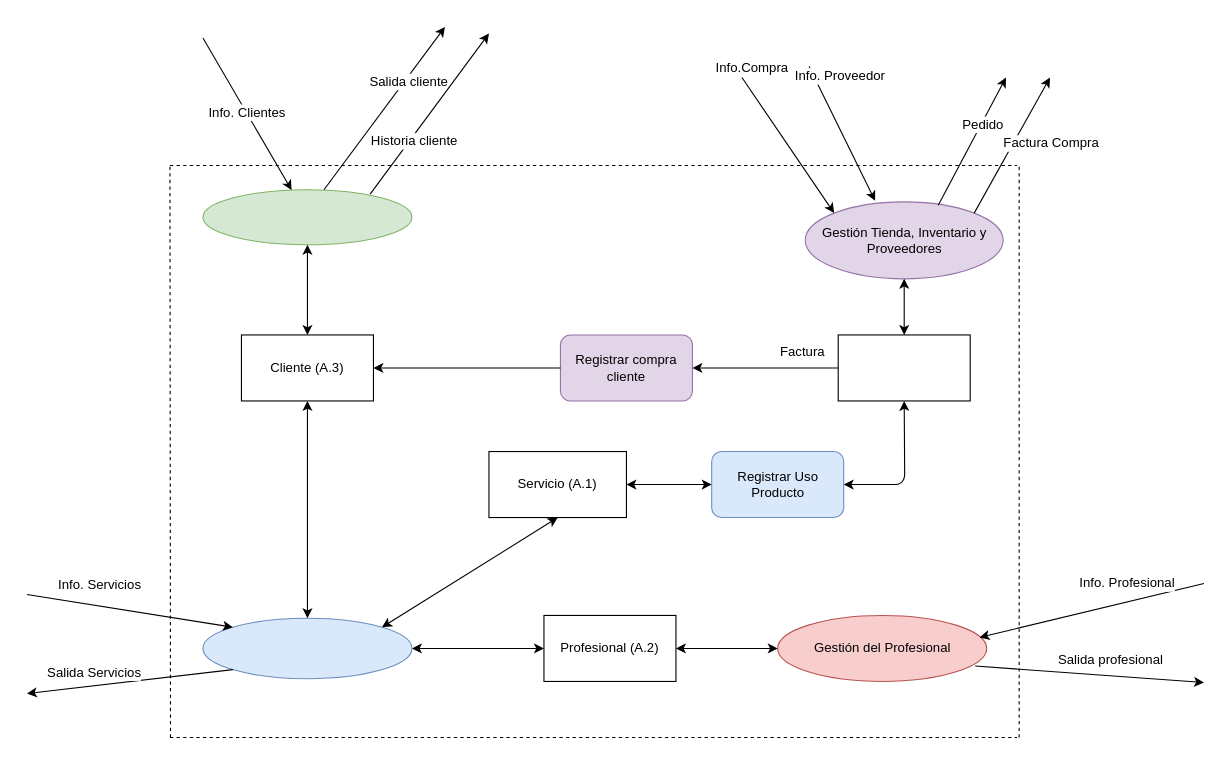
The diagram is 1232 pixels wide and 758 high, and some of its shapes have lost their labels. The shapes that lost their labels are listed below. From the top down, each one's centre as x and y in pixels, then its label:
At point (307, 217): "Gestión de Clientes".
At point (903, 367): "Tienda, Inventario y Proveedor (A.4)".
At point (307, 648): "Gestión Servicios".
